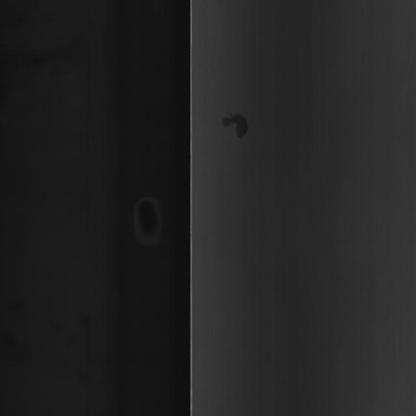oil_spot: (212, 105, 252, 150)
